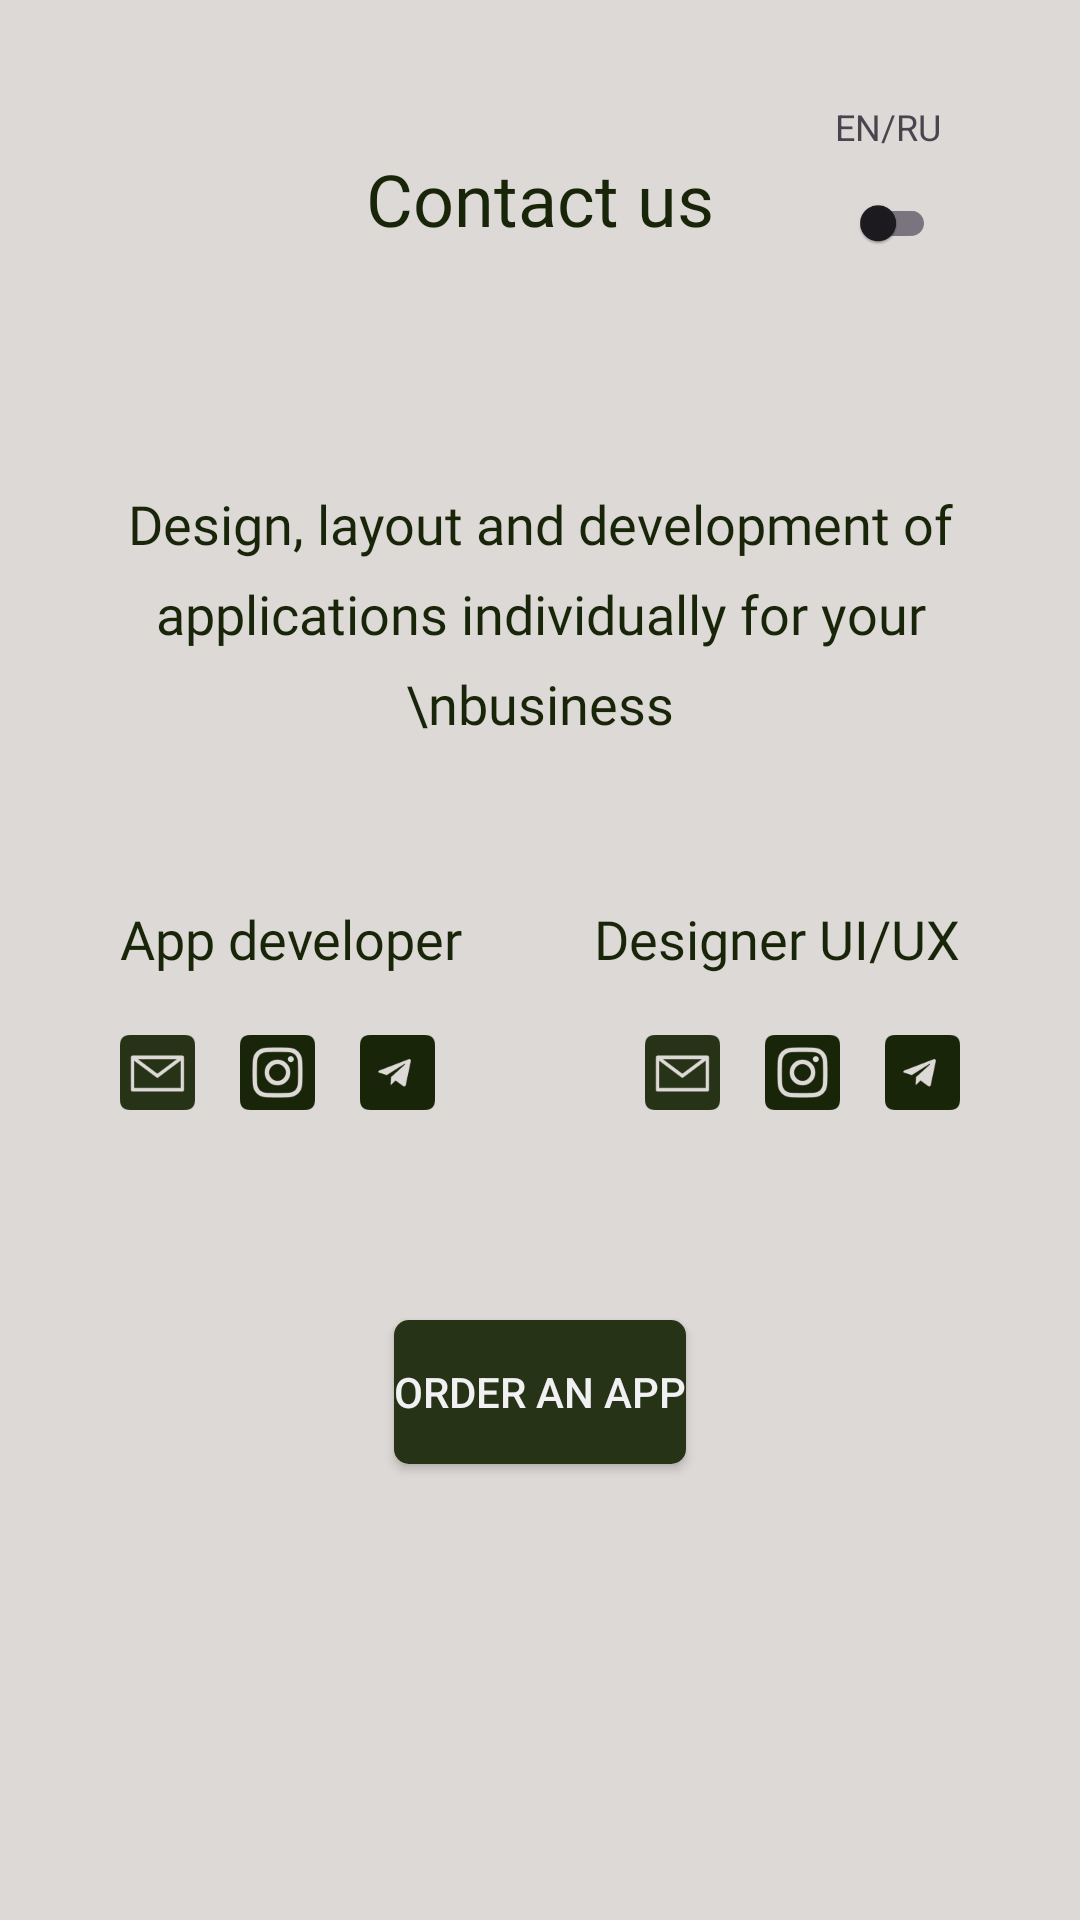

Where icons sit on this 1080×1920 app screen, as BBox(x1, y1, x2, y2):
email: BBox(120, 1035, 195, 1110), BBox(645, 1035, 720, 1110)
